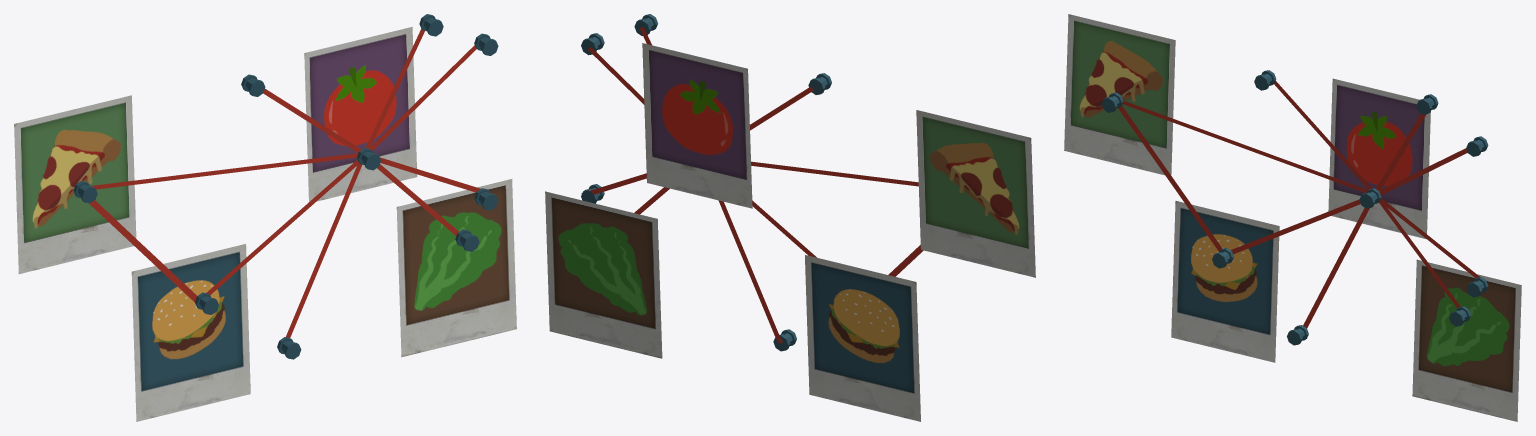
File: MurderBoard.fbx
3 views of the same model, side by side, from view 1: azimuth 30°, elevation 25°; view 2: azimuth 150°, elevation 25°; view 3: azimuth 330°, elevation 25° (orthographic). The views are drawn at different scales.
Visible parts, largest first — view 1: MurderBoard; view 2: MurderBoard; view 3: MurderBoard.
Boxes of the visible parts, x1,y1,x2,y2 form: MurderBoard: (14, 14, 516, 421); MurderBoard: (545, 14, 1035, 421); MurderBoard: (1064, 14, 1521, 421).
Size of the model in its own units: 1.42 by 0.9224 by 0.0789.
1 material, 1 textured.
